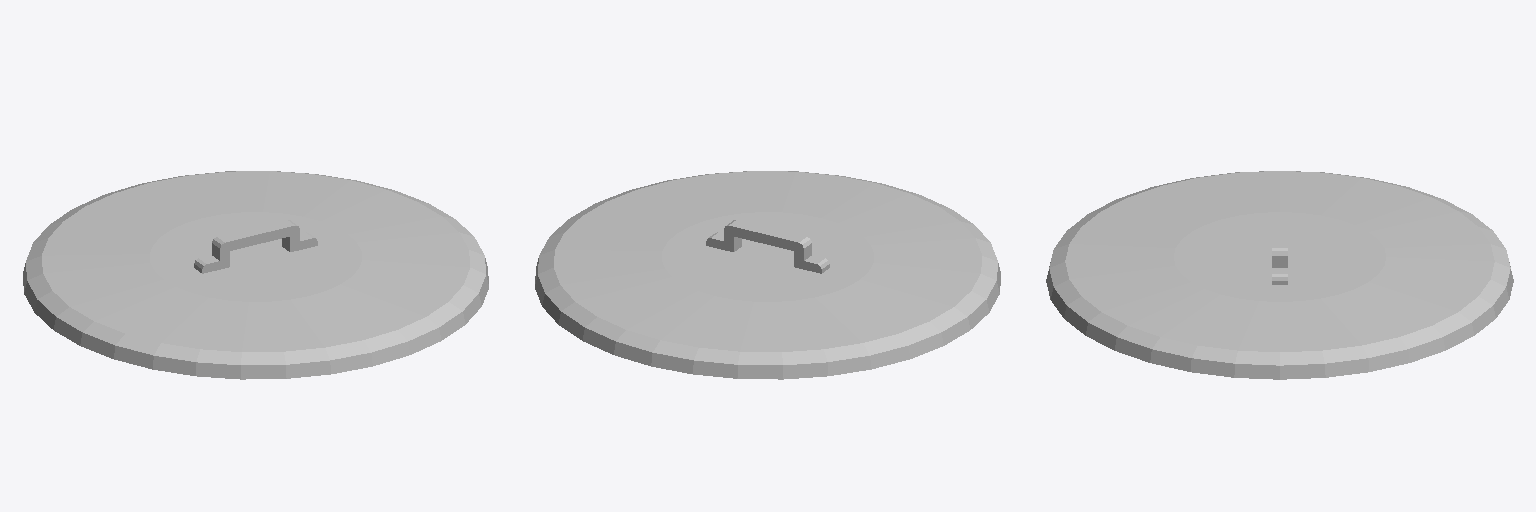
Rendered from dustbinlid.obj.
The picture shows the model from 3 angles: view 1: azimuth 30°, elevation 25°; view 2: azimuth 150°, elevation 25°; view 3: azimuth 270°, elevation 25°; orthographic projection.
Parts seen in each view (by area): view 1: Cylinder, Cube_Cube.002; view 2: Cylinder, Cube_Cube.002; view 3: Cylinder, Cube_Cube.002.
Part boxes in pixels (bbox=[...]): Cylinder: bbox=[23, 171, 488, 379]; Cube_Cube.002: bbox=[194, 220, 317, 273]; Cylinder: bbox=[535, 171, 1000, 379]; Cube_Cube.002: bbox=[706, 220, 829, 273]; Cylinder: bbox=[1046, 171, 1513, 379]; Cube_Cube.002: bbox=[1272, 214, 1287, 284].
Bounding box in the file's own units: 3.04 × 0.3576 × 3.04.